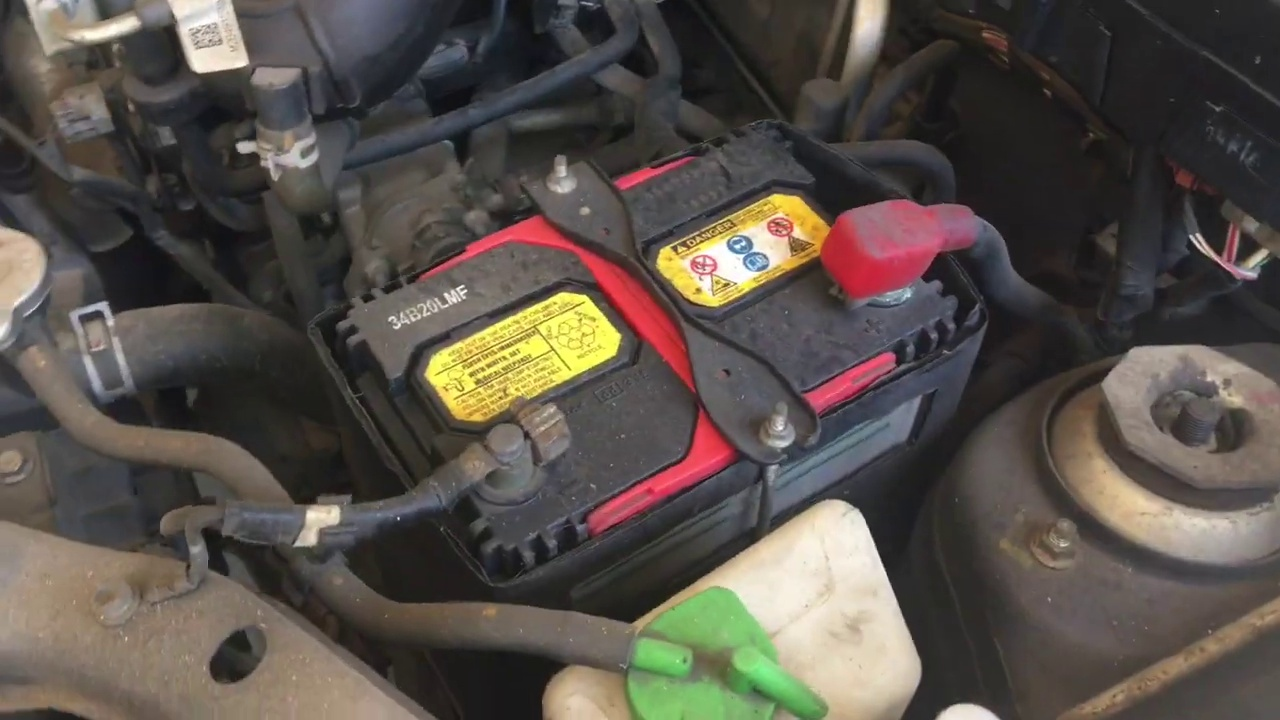battery: (336, 119, 980, 551)
neg_connected: (414, 397, 581, 527)
pos_connected: (805, 173, 992, 311)
